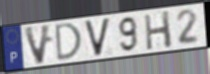2: (175, 8, 201, 46)
9: (117, 15, 140, 53)
D: (54, 21, 84, 63)
H: (142, 9, 174, 52)
V: (22, 23, 54, 66), (83, 16, 113, 58)
